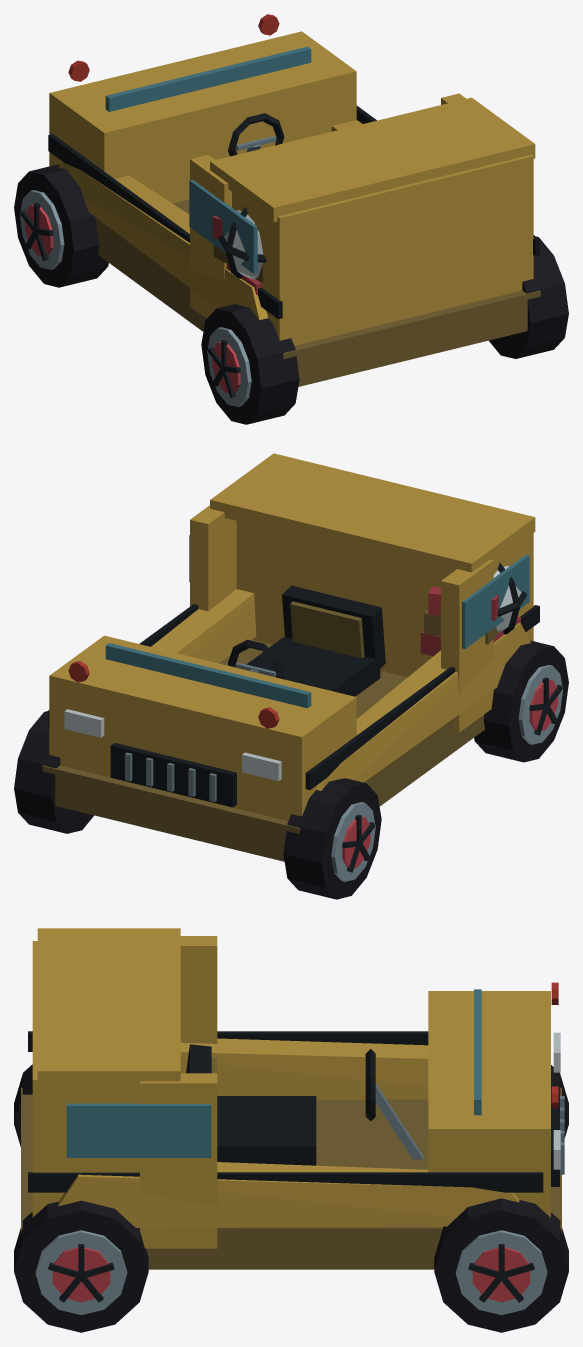
The model's file is kart.glb.
The picture shows the model from 3 angles, top to bottom: view 1: azimuth 30°, elevation 25°; view 2: azimuth 150°, elevation 25°; view 3: azimuth 270°, elevation 25°; orthographic projection. The views are drawn at different scales.
Parts seen in each view (by area): view 1: identity-bus-bus-utility-body, wheel-rear-left, wheel-front-left, wheel-rear-right, identity-bus-motif-ball, identity-bus-driver-cockpit, identity-bus-motif-books; view 2: identity-bus-bus-utility-body, identity-bus-driver-cockpit, wheel-front-left, wheel-rear-left, wheel-front-right, identity-bus-motif-books, identity-bus-motif-ball; view 3: identity-bus-bus-utility-body, wheel-front-right, wheel-rear-right, identity-bus-driver-cockpit, wheel-rear-left.
Part boxes in pixels (bbox=[...]): identity-bus-bus-utility-body: bbox=[48, 14, 540, 386]; wheel-rear-left: bbox=[201, 304, 299, 424]; wheel-front-left: bbox=[14, 164, 108, 287]; wheel-rear-right: bbox=[489, 236, 568, 358]; identity-bus-motif-ball: bbox=[218, 206, 266, 279]; identity-bus-driver-cockpit: bbox=[228, 113, 284, 156]; identity-bus-motif-books: bbox=[212, 215, 262, 294]; identity-bus-bus-utility-body: bbox=[42, 453, 539, 861]; identity-bus-driver-cockpit: bbox=[228, 585, 385, 696]; wheel-front-left: bbox=[283, 778, 381, 899]; wheel-rear-left: bbox=[474, 640, 568, 762]; wheel-front-right: bbox=[14, 711, 93, 833]; identity-bus-motif-books: bbox=[420, 586, 520, 656]; identity-bus-motif-ball: bbox=[493, 562, 527, 634]; identity-bus-bus-utility-body: bbox=[21, 928, 564, 1269]; wheel-front-right: bbox=[434, 1198, 568, 1332]; wheel-rear-right: bbox=[14, 1200, 148, 1332]; identity-bus-driver-cockpit: bbox=[186, 1044, 423, 1165]; wheel-rear-left: bbox=[14, 1064, 32, 1146].
Size of the model in its own units: 2.13 by 1.38 by 2.8.
